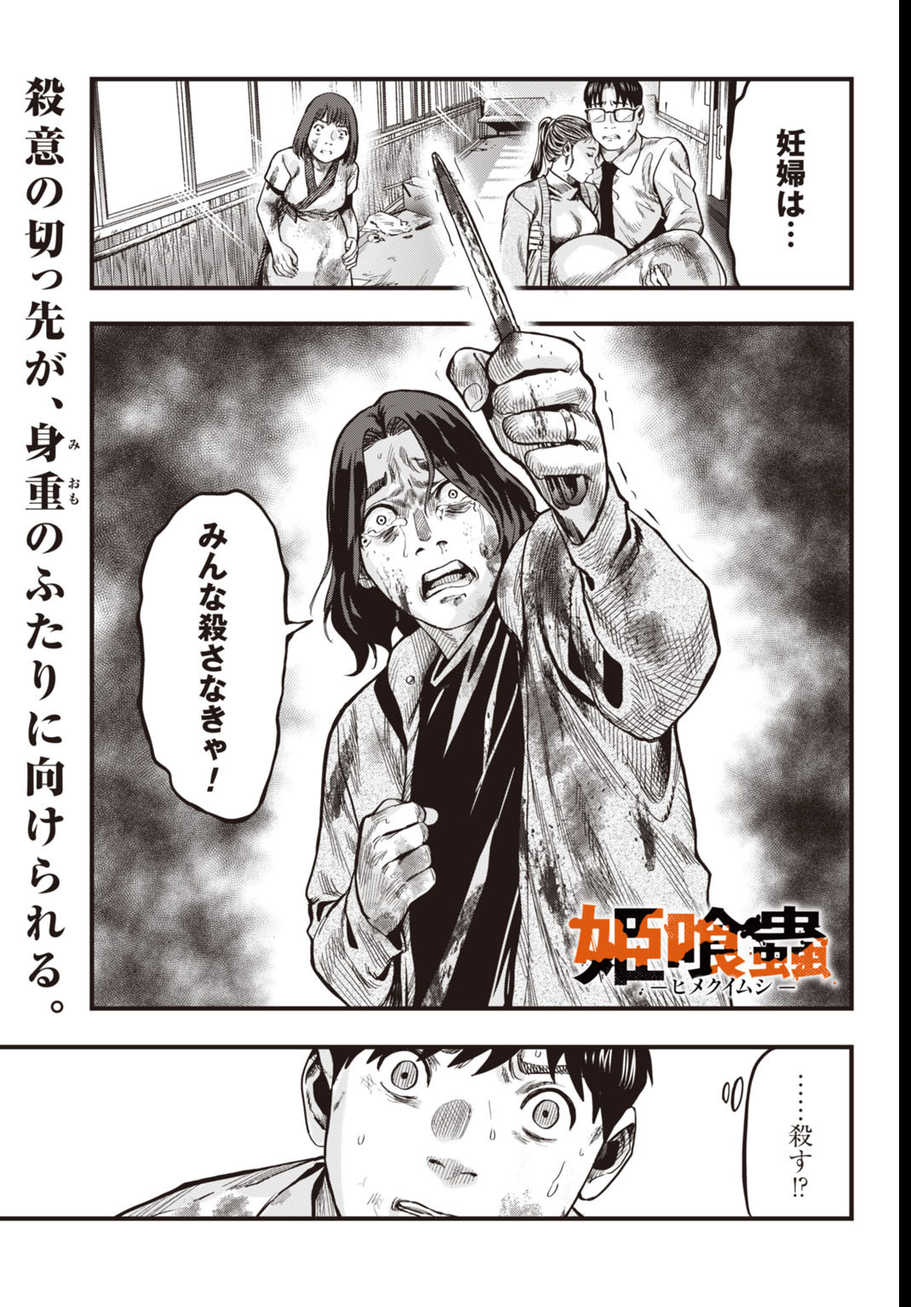bubbles: (131, 475, 326, 833), (725, 77, 851, 287), (715, 1047, 853, 1220)
